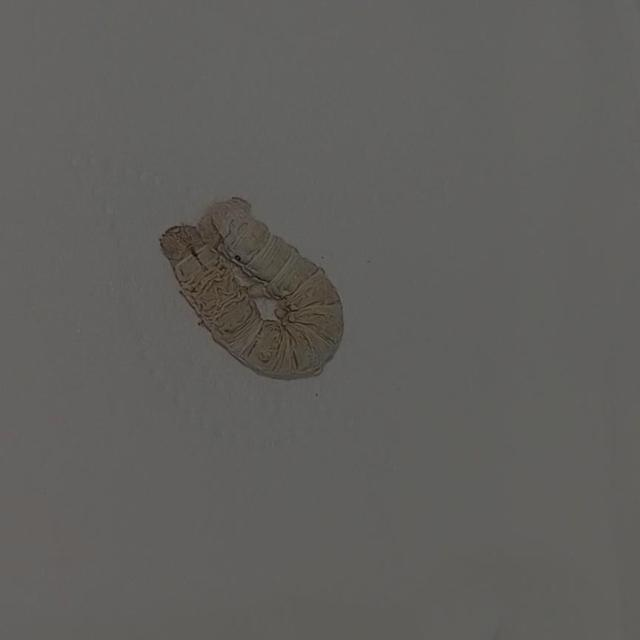Healthy: (134, 165, 362, 399)
